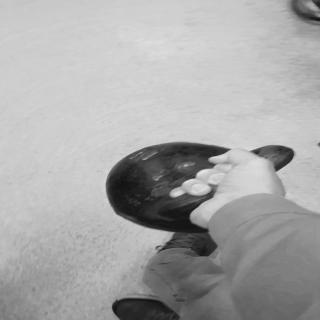kettlebell: (110, 143, 299, 234)
